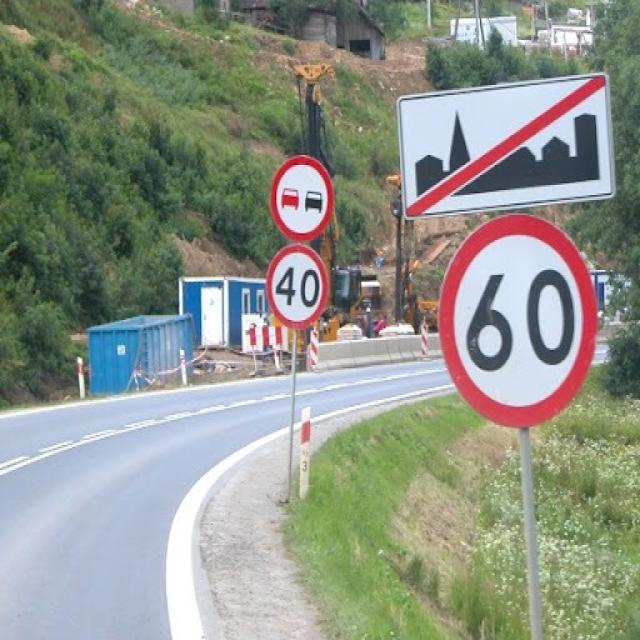Speed Limit -40-: (275, 267, 321, 307)
Speed Limit -60-: (465, 265, 576, 372)
